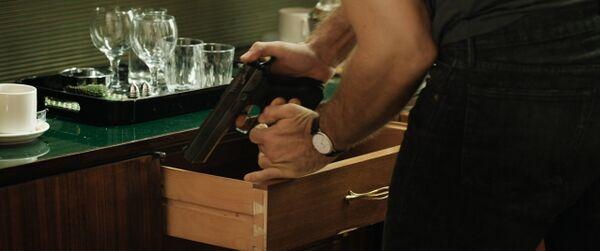Gun: (180, 50, 325, 170)
